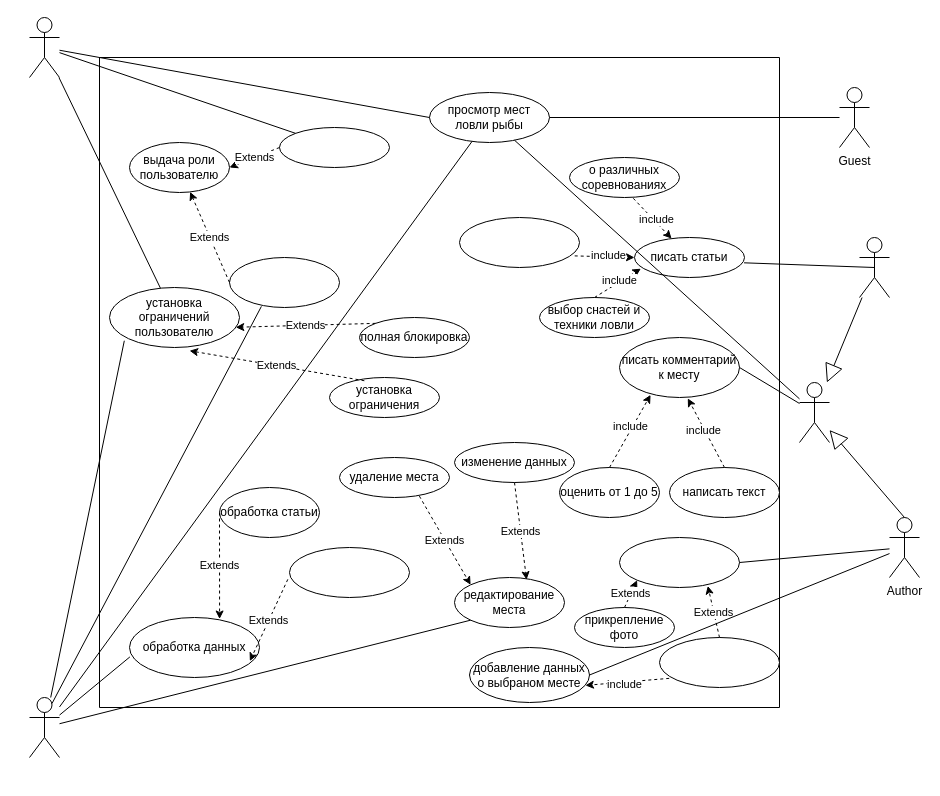
Some shapes in this 940 by 796 pixel diagram are drawn without their labels. Each missing label, with the centre of its shape:
"Admin" goes at point (44, 47).
"Journalist" goes at point (874, 267).
"Moderator" goes at point (44, 727).
"User" goes at point (814, 412).
"ввод данных для подсчёта статистики клёва" goes at point (719, 662).
"выдача любой роли" goes at point (334, 147).
"выдача ролей кроме moderator" goes at point (284, 282).
"обработка данных нового места" goes at point (349, 572).
"рекордных показателях" goes at point (519, 242).
"создание места для рыбалки" goes at point (679, 562).
